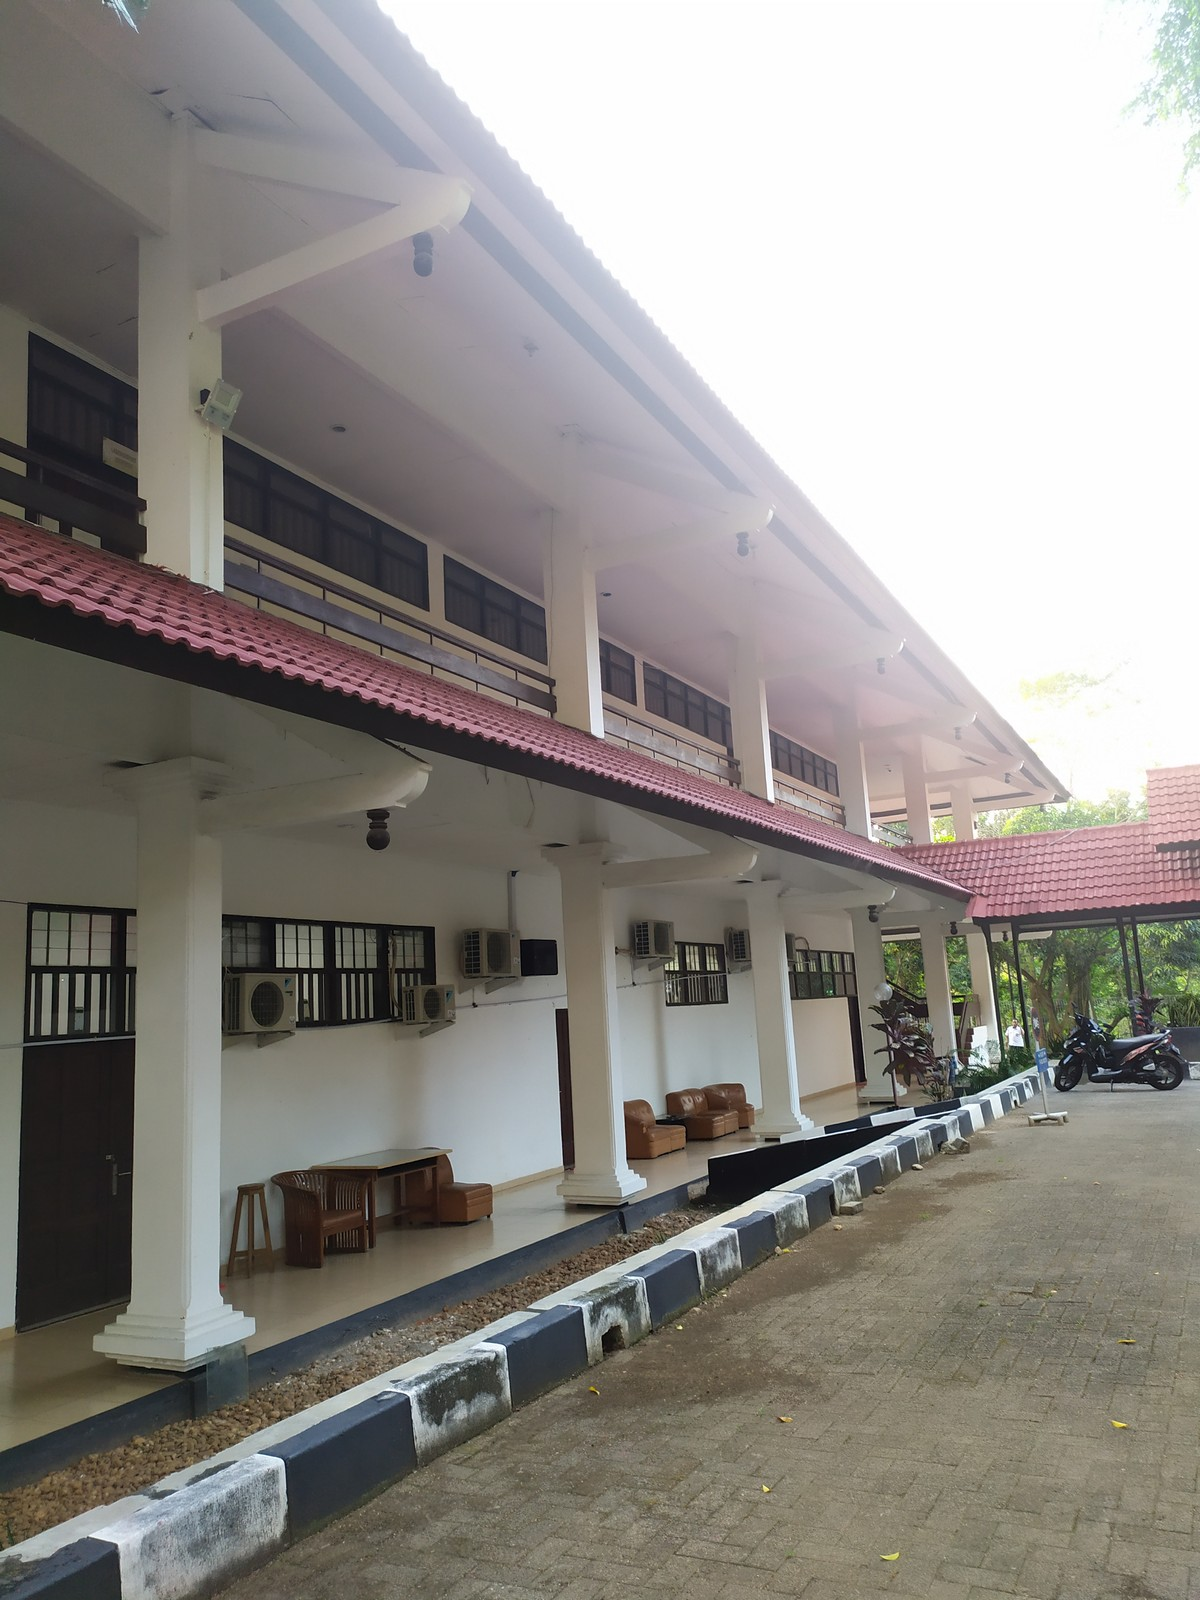concrete beam: (179, 226, 422, 329), (194, 767, 367, 834), (587, 847, 720, 898)
concrete column: (118, 784, 237, 1313), (130, 115, 241, 596), (537, 436, 620, 738), (560, 866, 634, 1170)
